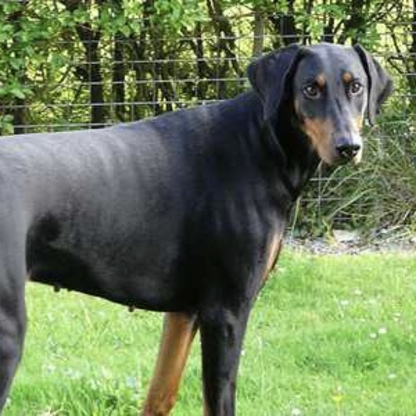doberman: (2, 39, 399, 416)
